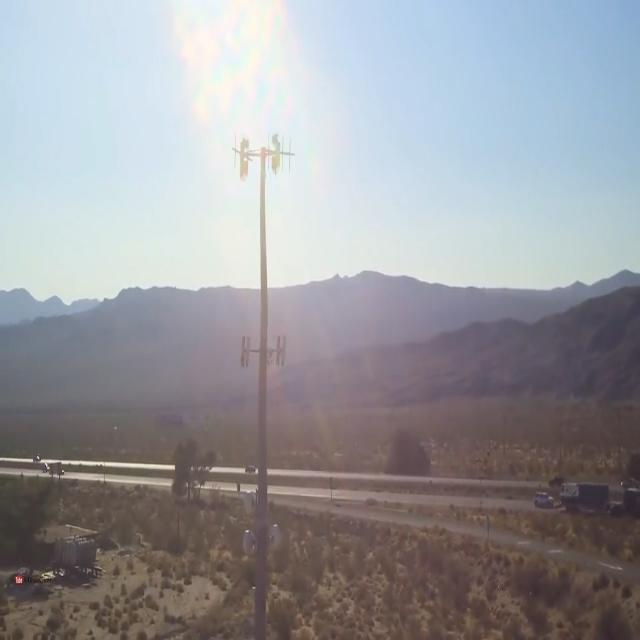Pole: (232, 127, 294, 640)
